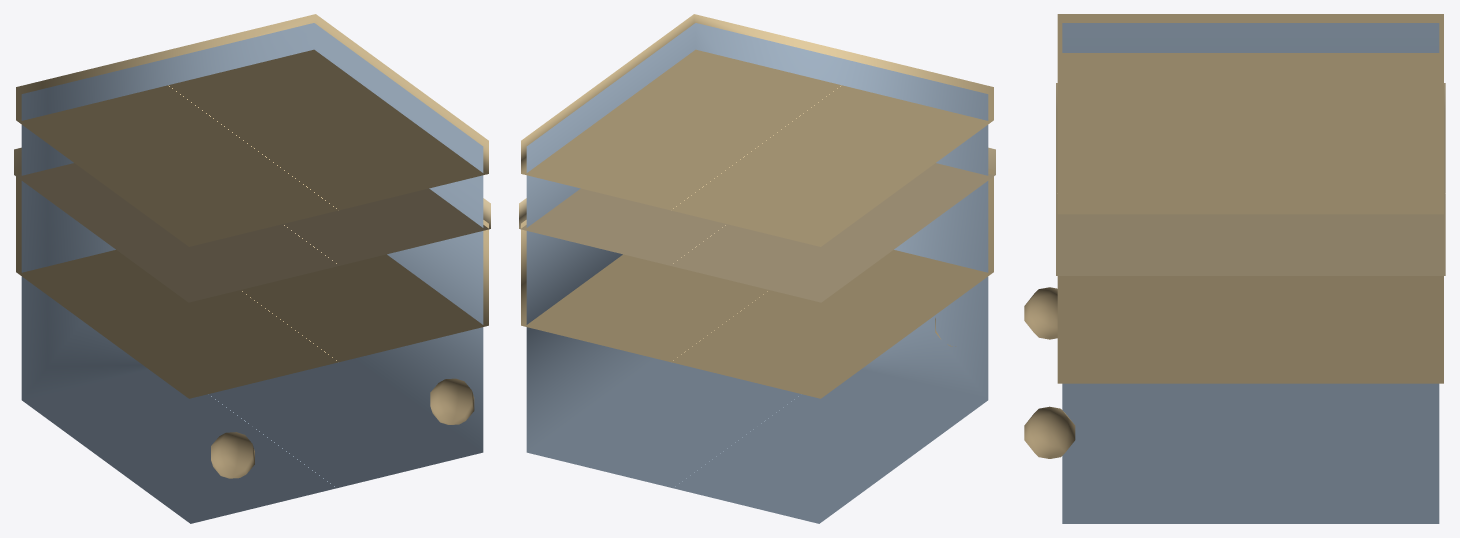
File: block_belt.glb
3 views of the same model, side by side, from view 1: azimuth 30°, elevation 25°; view 2: azimuth 150°, elevation 25°; view 3: azimuth 270°, elevation 25° (orthographic). The views are drawn at different scales.
Size of the model in its own units: 24.8 by 24.5 by 26.82.
